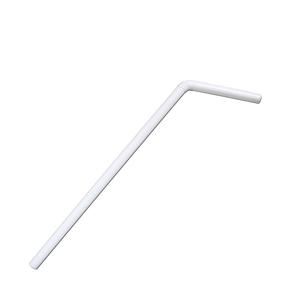Drinking Straw: (27, 78, 263, 273)
